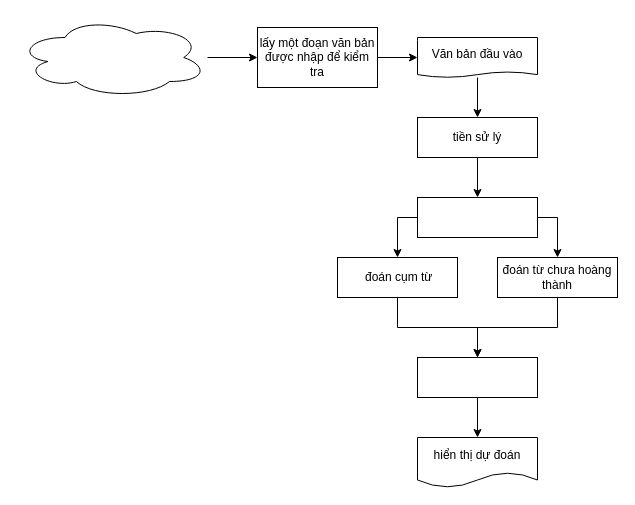
This 635x505 diagram has some shape labels left out. The box of each missing label's shape, as (x1, y1, x2, y2) in pixels:
kết quả dự đoán: (416, 356, 538, 398)
một ký tự được nhập: (16, 16, 208, 98)
xác định phương thức dự đoán: (416, 196, 538, 238)
